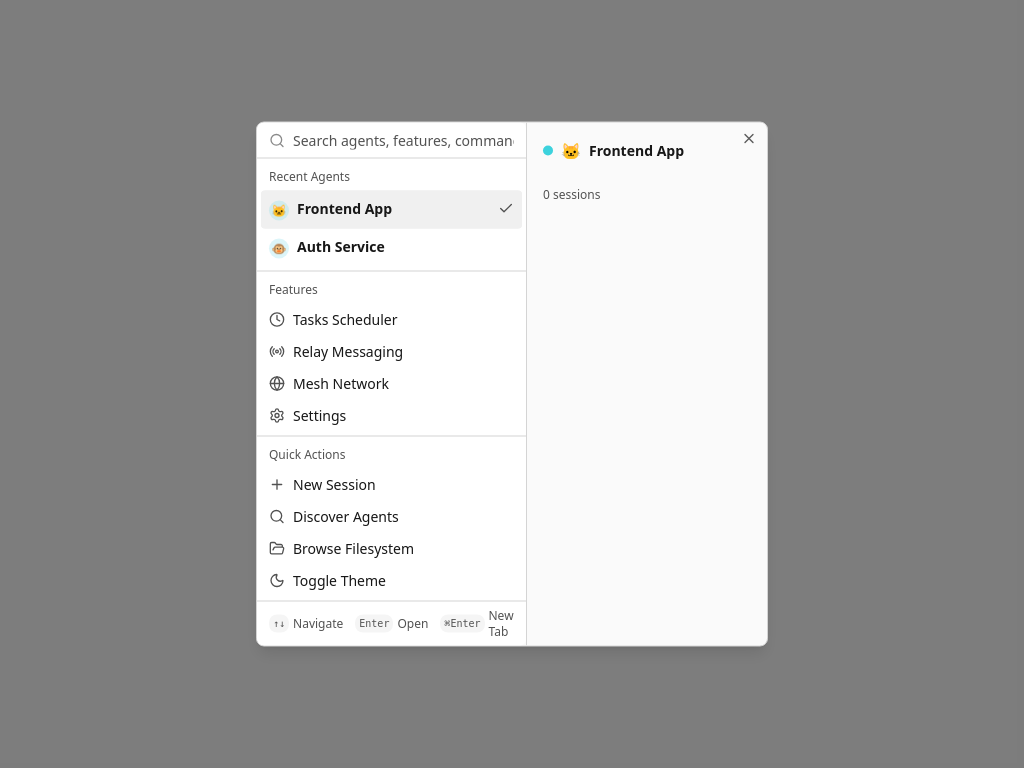
Command Palette Integration › typing a search query reveals Commands and All Agents groups
Type "deploy" into the dropdown with placeholder "Search agents, features, commands...". click: (404, 140)
box: [293,120,514,160]
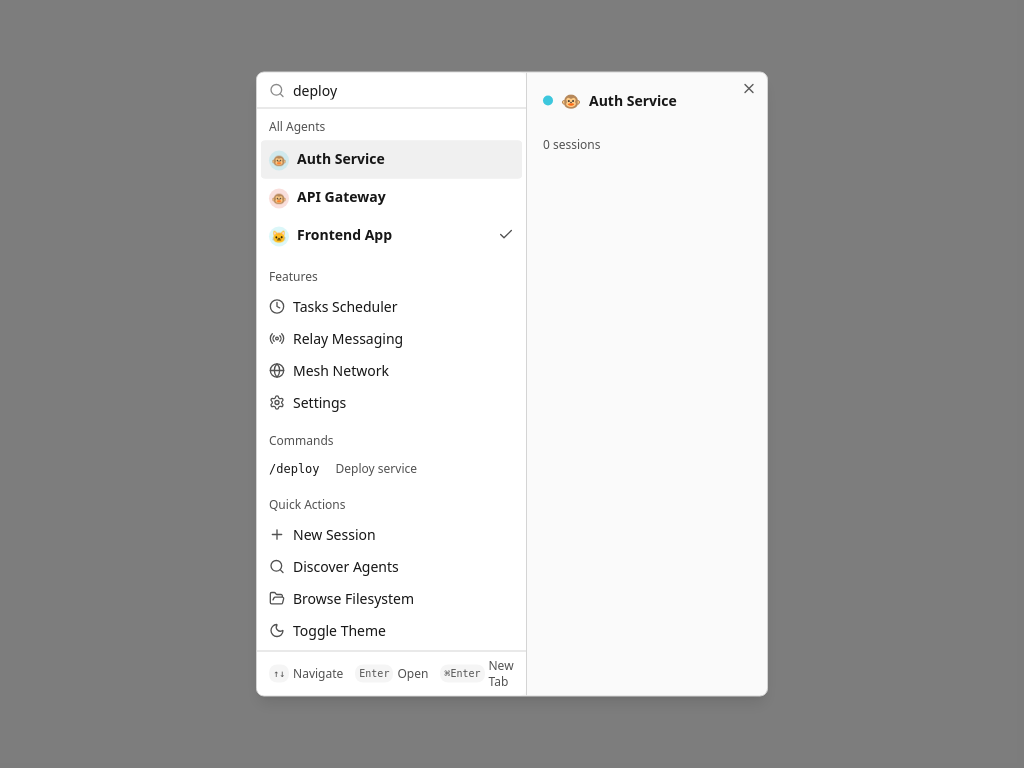
Now the text "Commands" is shown, box [269,432,334,448]
Now the text "/deploy" is shown, box [269,460,320,476]
Now the text "All Agents" is shown, box [269,118,325,134]
